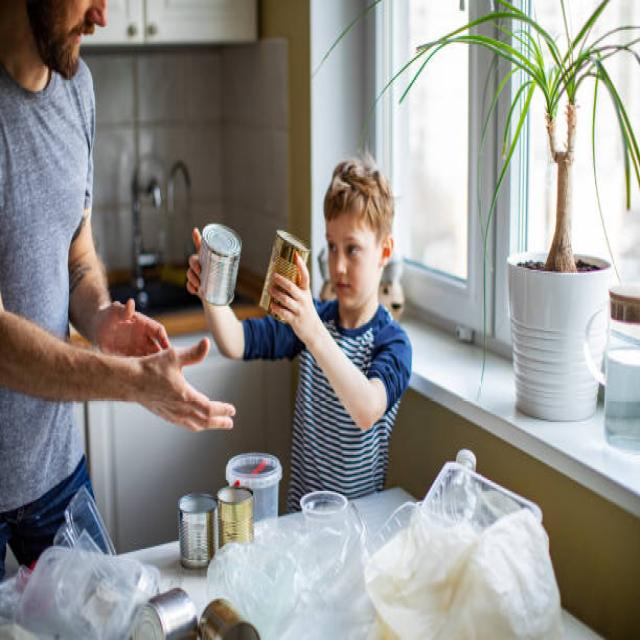metal: (128, 574, 264, 640), (170, 486, 260, 558), (255, 242, 314, 315), (202, 224, 240, 301)
plastic: (266, 480, 544, 621), (8, 507, 112, 637)
